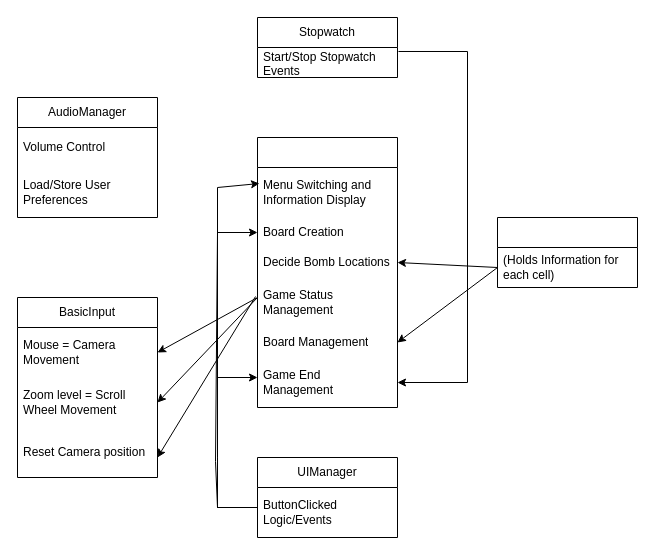
The diagram is 655 pixels wide and 555 high, and some of its shapes have lost their labels. Each missing label, with the box of its shape:
CellLogic: (496, 216, 638, 288)
GameMechanics: (256, 136, 398, 408)
